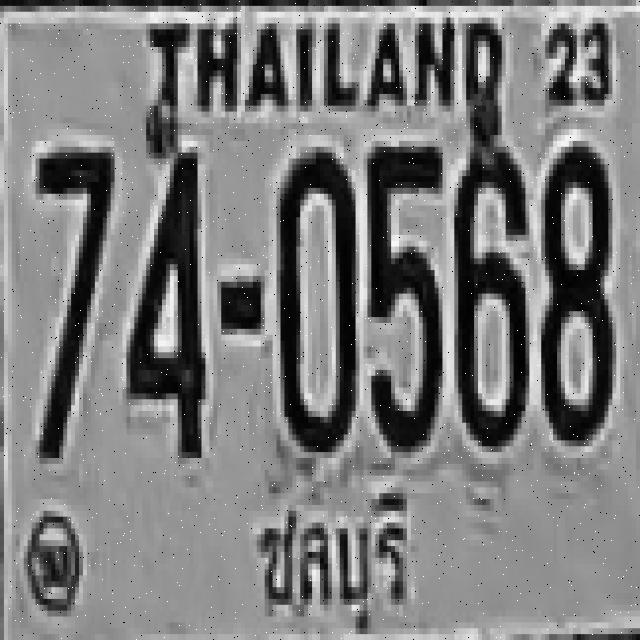0: (278, 146, 354, 446)
4: (124, 141, 203, 452)
5: (366, 140, 440, 447)
6: (450, 140, 526, 440)
7: (34, 146, 112, 452), (36, 146, 110, 358)
8: (538, 140, 608, 440)
Chonburi: (245, 484, 416, 640)
